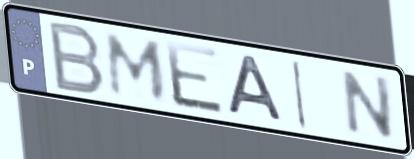A: (225, 52, 287, 125)
B: (47, 18, 109, 97)
E: (162, 37, 228, 118)
I: (290, 57, 310, 132)
M: (105, 30, 169, 104)
N: (340, 67, 397, 142)
